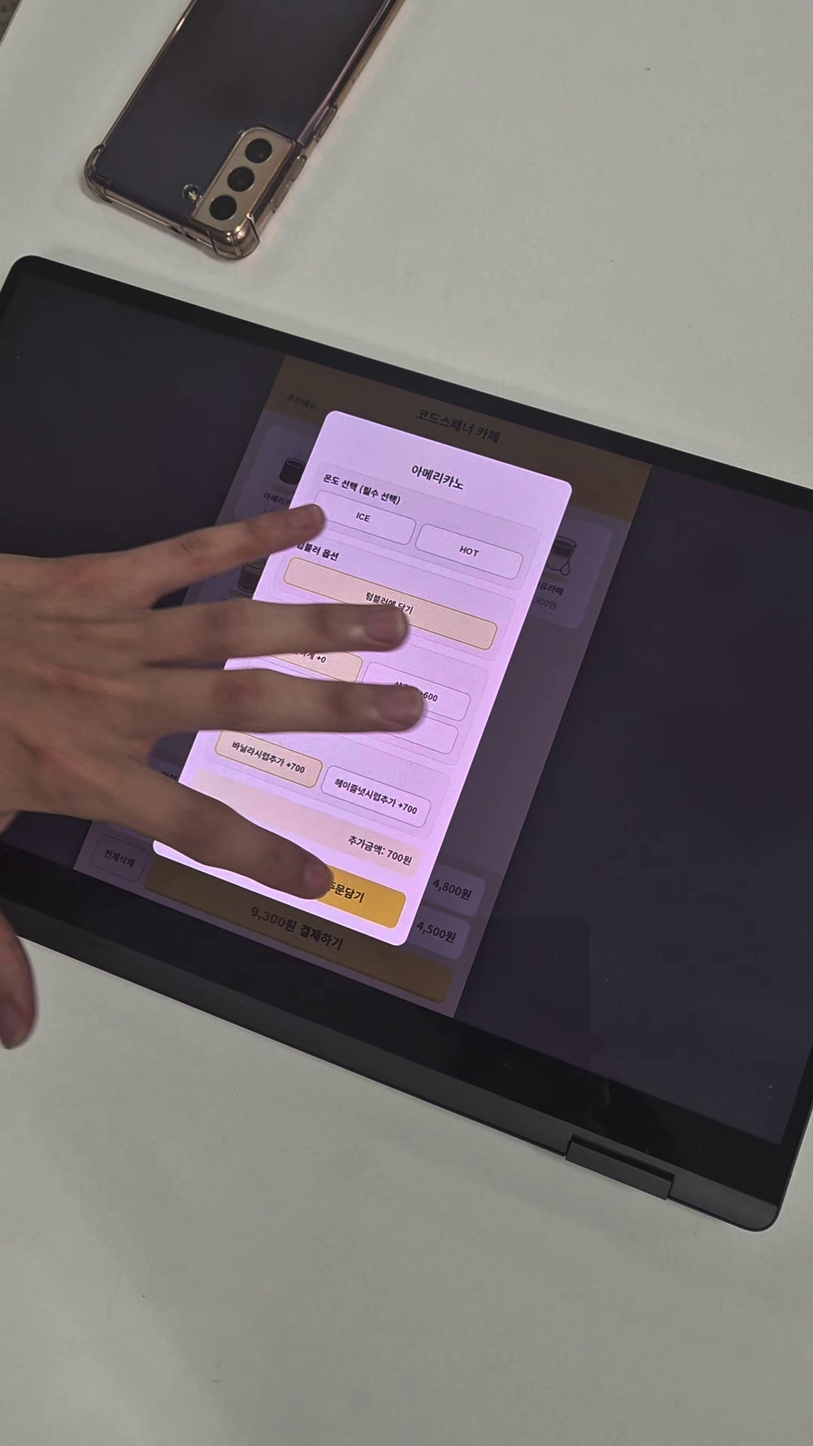action_button: (298, 857, 407, 931)
menu_name: (398, 455, 479, 501)
option_button: (281, 554, 500, 654), (413, 514, 527, 587), (318, 760, 432, 830), (211, 725, 326, 791), (308, 488, 419, 551)
popup_modal: (136, 401, 580, 960)
